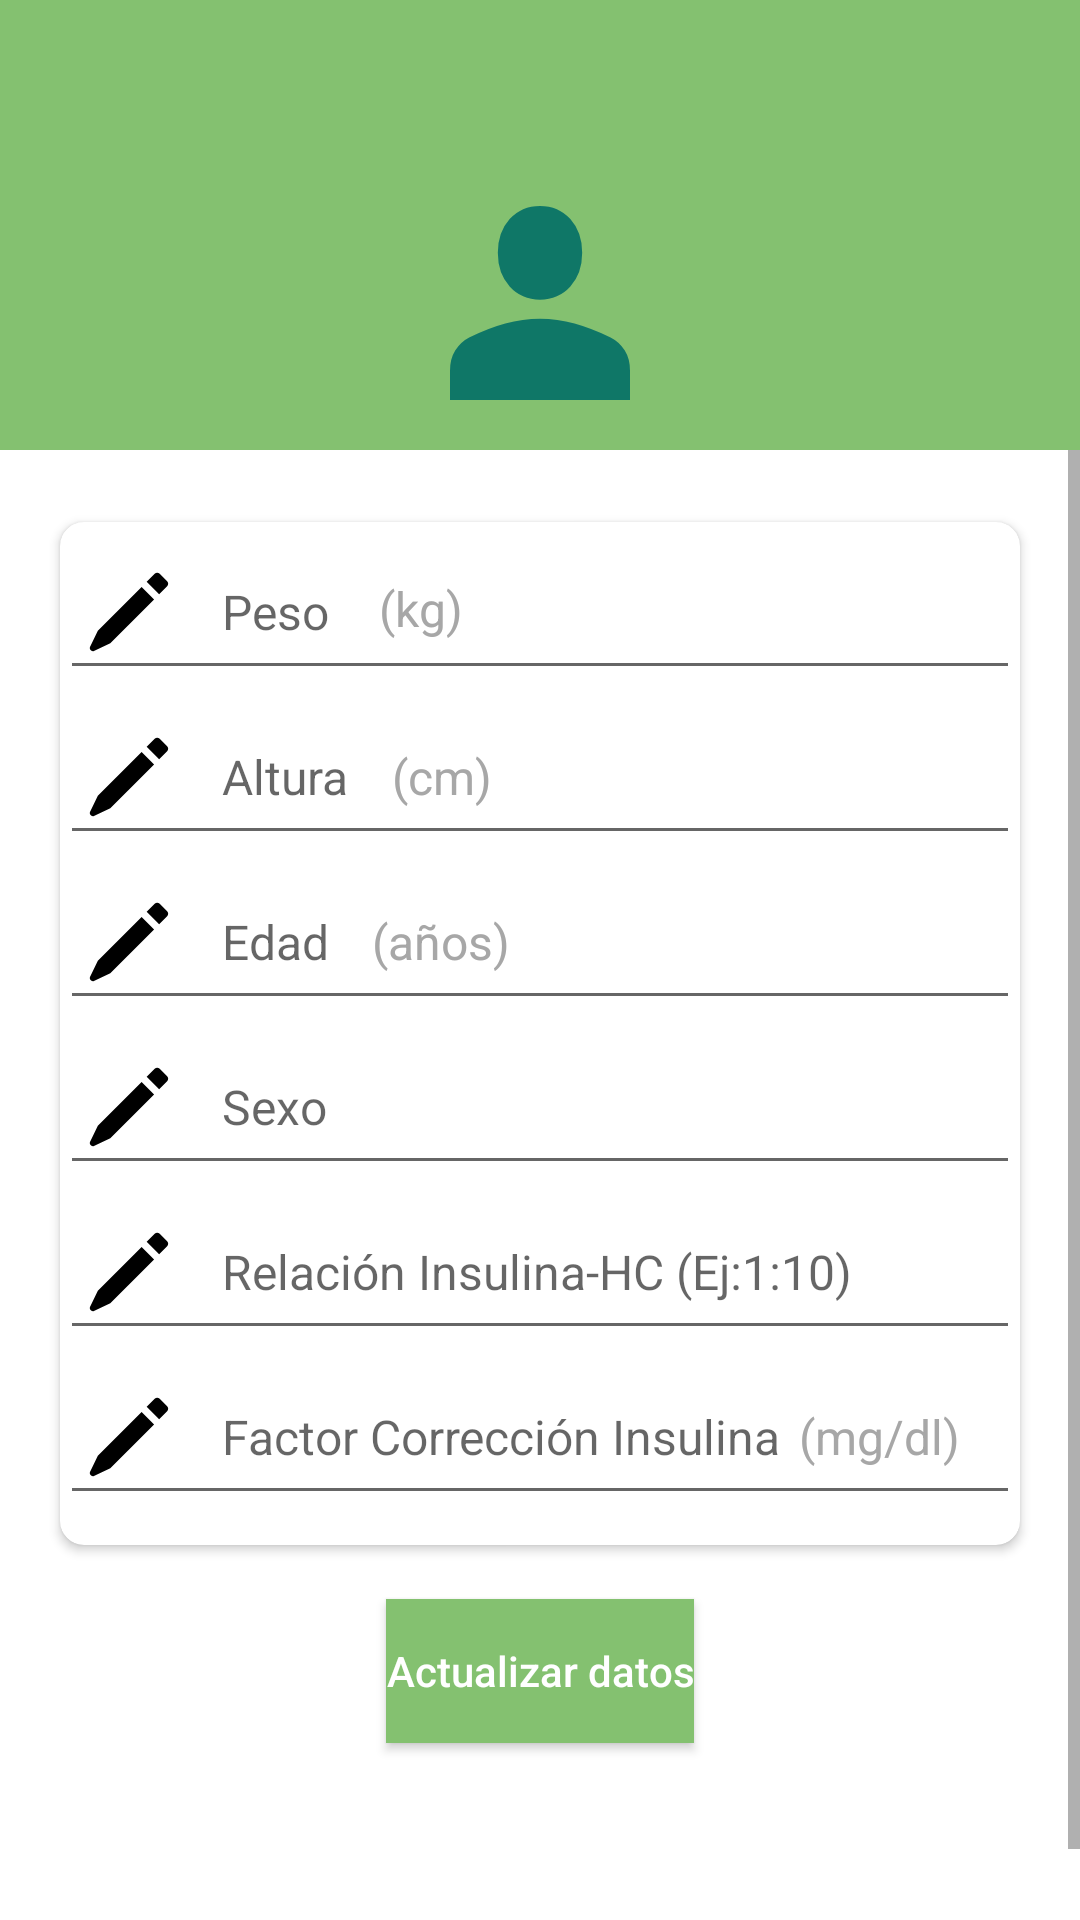

Point at icon controls on the screen. Image size 1080w x 1920h, points as (x=x, y=y).
user: (x=540, y=303)
